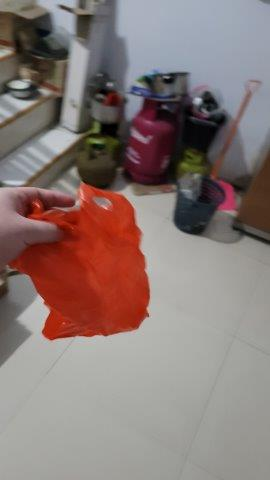plastik: (5, 183, 151, 343)
